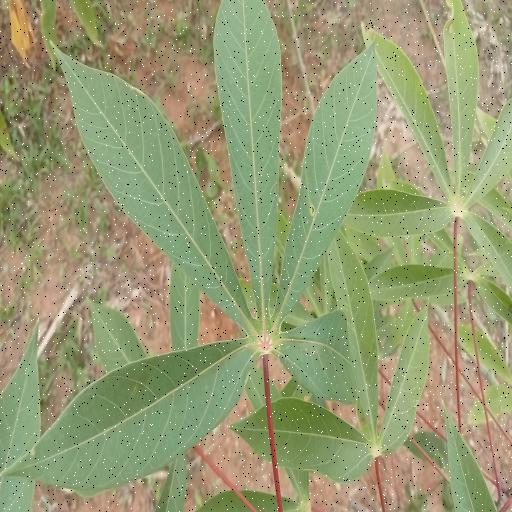Cassava_Healthy: (36, 1, 362, 493), (355, 12, 512, 293)
